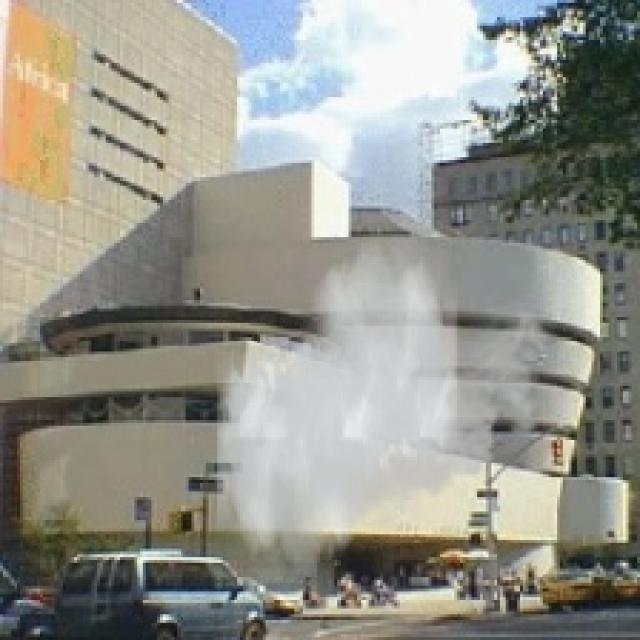smoke: (217, 234, 560, 583)
